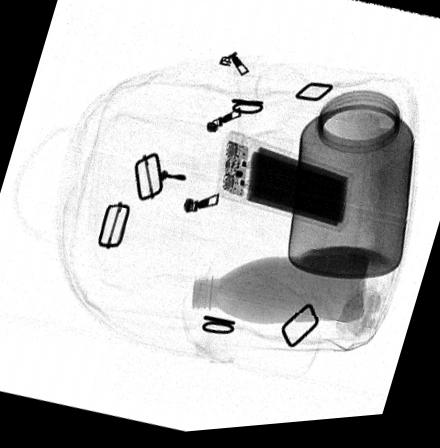Powerbank: (217, 134, 352, 238)
